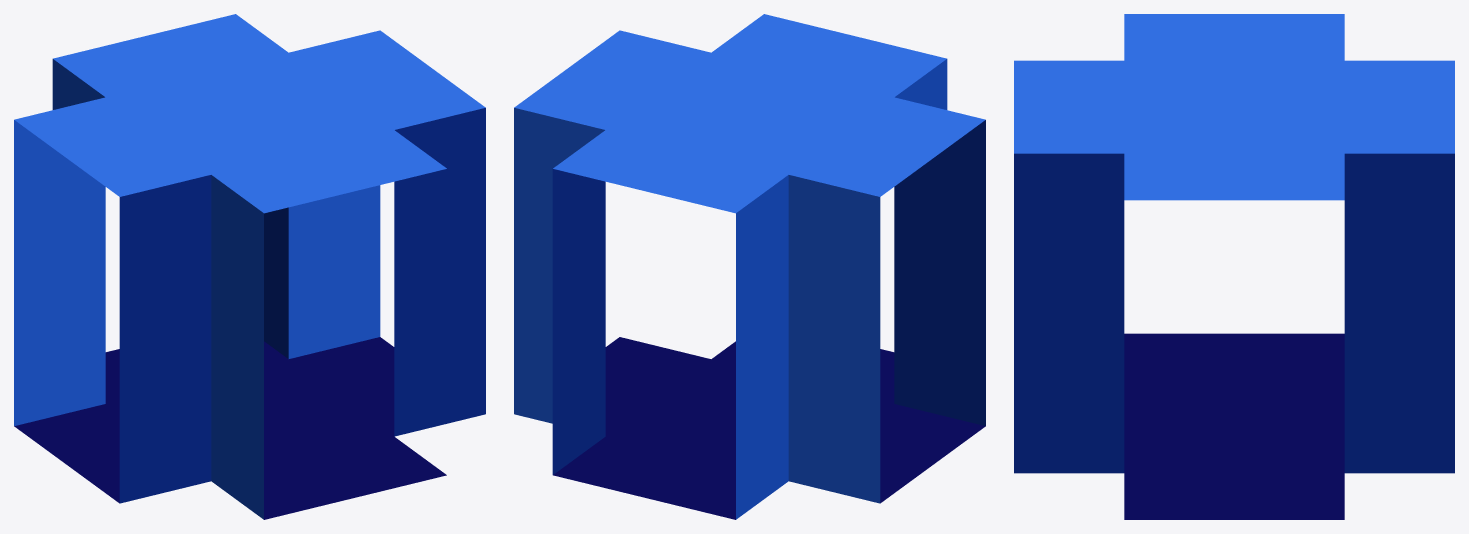
Rendered from wall_cross.glb.
3 views of the same model, side by side, from view 1: azimuth 30°, elevation 25°; view 2: azimuth 150°, elevation 25°; view 3: azimuth 270°, elevation 25° (orthographic). The views are drawn at different scales.
Parts seen in each view (by area): view 1: wall_cross; view 2: wall_cross; view 3: wall_cross.
Boxes of the visible parts, x1,y1,x2,y2 form: wall_cross: (14, 14, 485, 519); wall_cross: (514, 14, 985, 519); wall_cross: (1014, 14, 1454, 519).
Bounding box in the file's own units: 1 × 0.8 × 1.
